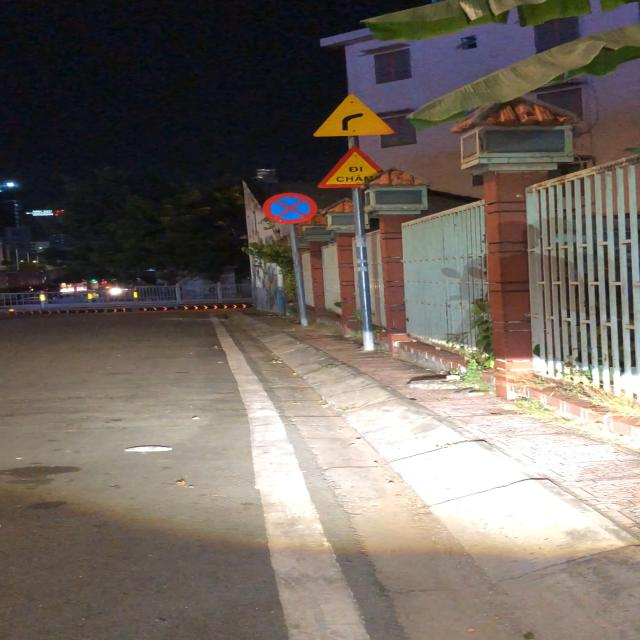Bien bao cam dung xe va do xe: (262, 192, 318, 225)
Bien bao cho ngoat nguy hiem: (311, 93, 399, 137)
Bien bao di cham: (316, 145, 390, 189)
